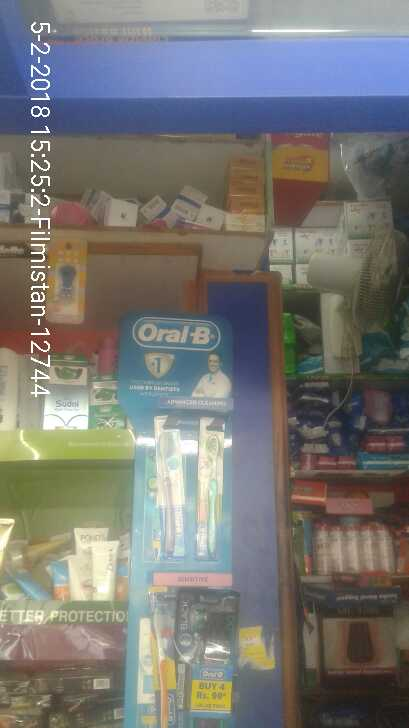oralb: (190, 424, 220, 558), (151, 425, 179, 565)
